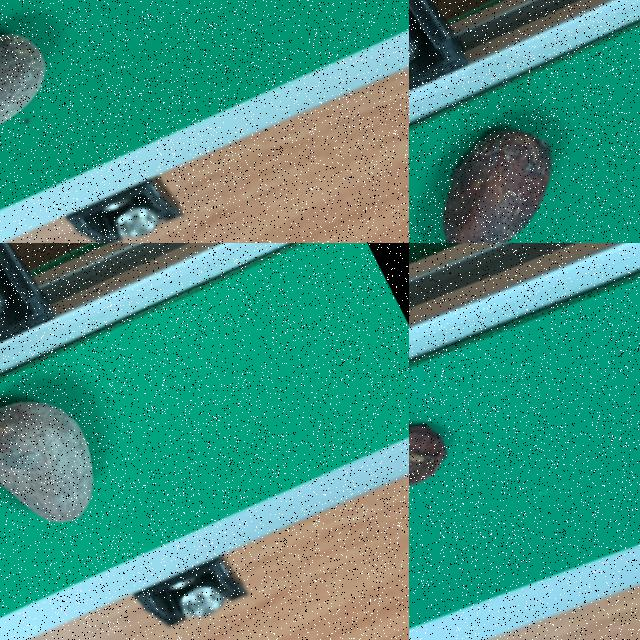Fine_cocoabeans: (0, 298, 194, 579), (409, 29, 639, 242), (0, 0, 141, 228)
Flat_cocoabeans: (409, 286, 572, 582)
